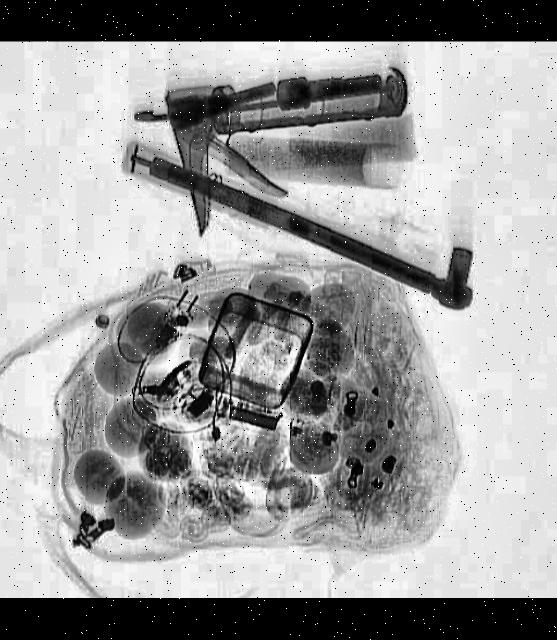Knife: (167, 65, 424, 238)
